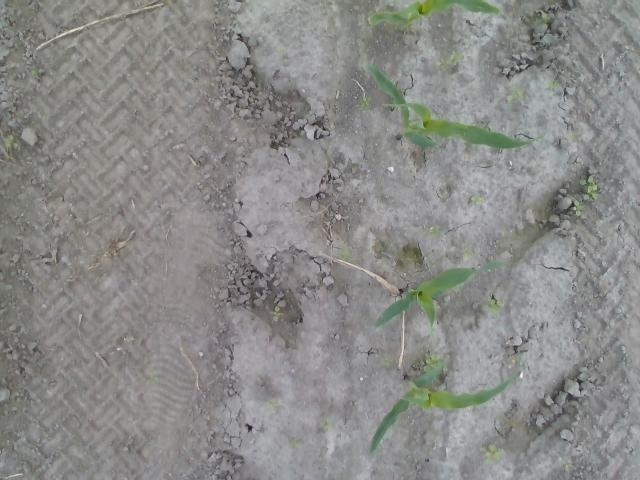Maize: (363, 60, 544, 152), (368, 364, 515, 461), (374, 260, 516, 334), (366, 1, 503, 30)
Weeds: (478, 442, 506, 465), (576, 175, 600, 201), (481, 298, 506, 320), (436, 52, 466, 68), (424, 352, 441, 370), (2, 134, 19, 150), (270, 306, 283, 322), (572, 200, 584, 216), (541, 12, 554, 26), (470, 194, 485, 205), (358, 97, 369, 111), (288, 440, 302, 450), (546, 80, 560, 90), (512, 88, 522, 100), (30, 68, 46, 75), (511, 354, 522, 364), (432, 228, 442, 236)
